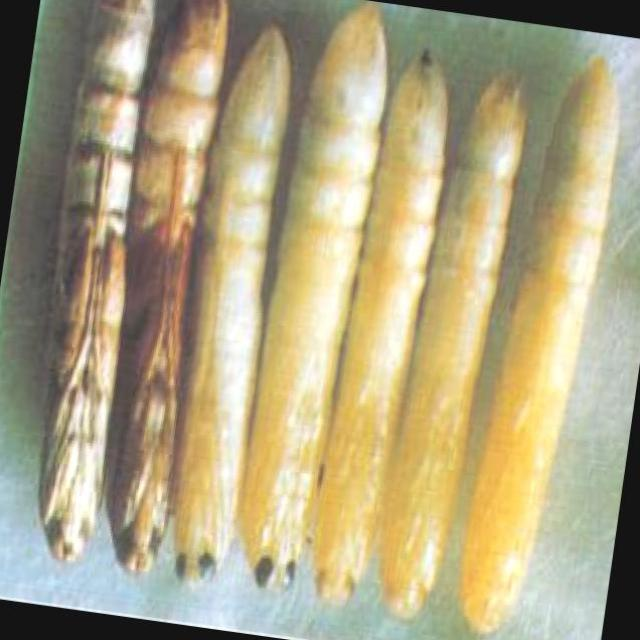stem borer: (37, 0, 525, 618), (462, 60, 618, 632)
